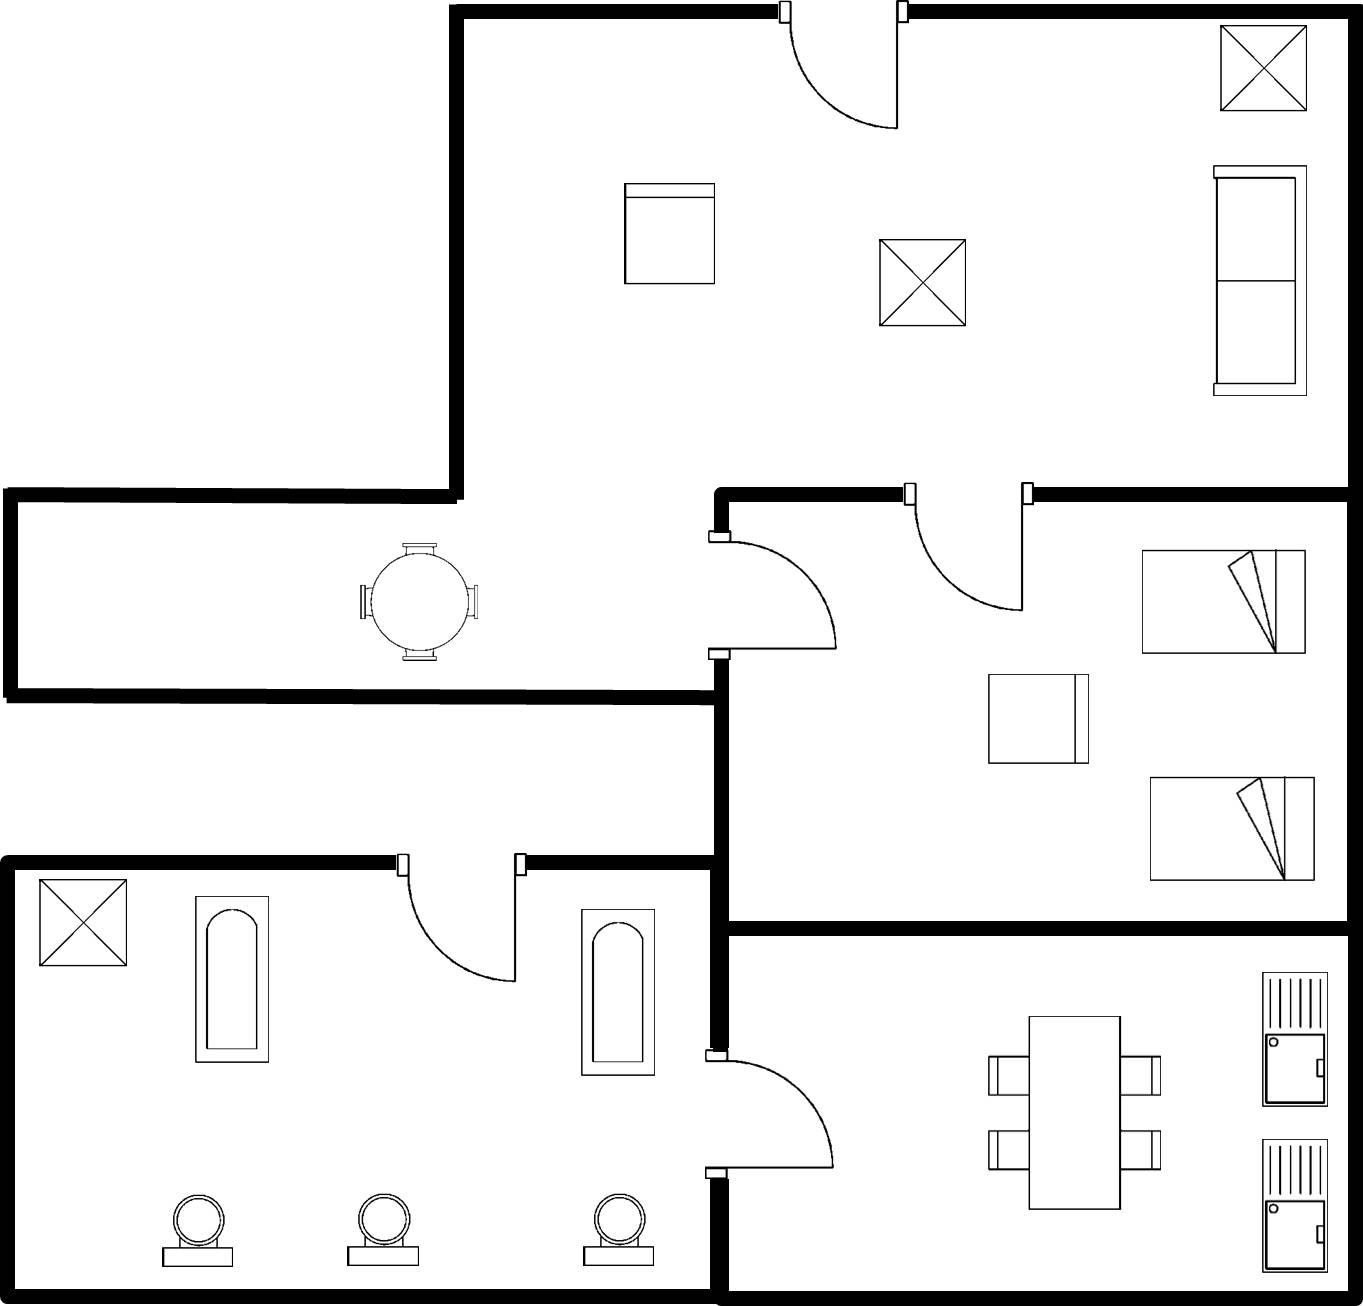bed: (1138, 766, 1324, 892), (1133, 539, 1316, 665)
dining_table: (971, 1007, 1171, 1218)
round_table: (344, 528, 489, 674)
sink: (1249, 965, 1337, 1116), (1252, 1130, 1335, 1282)
sofa: (1205, 155, 1316, 407)
toilet: (333, 1182, 428, 1276), (147, 1187, 248, 1274), (573, 1183, 668, 1274)
tub: (186, 887, 282, 1074), (572, 898, 664, 1084)
